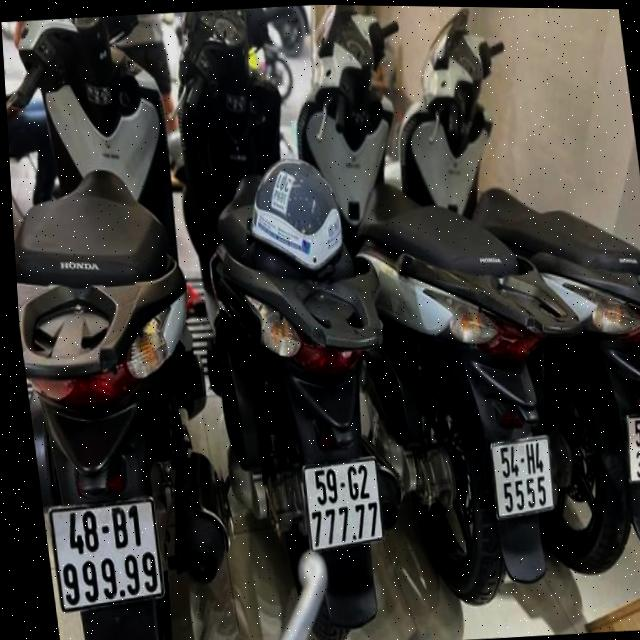motorcycle: (275, 4, 619, 621), (152, 2, 431, 640), (362, 5, 640, 602), (1, 10, 244, 640)
plate: (43, 491, 170, 612), (292, 450, 390, 554), (483, 431, 561, 522), (618, 404, 640, 488)
